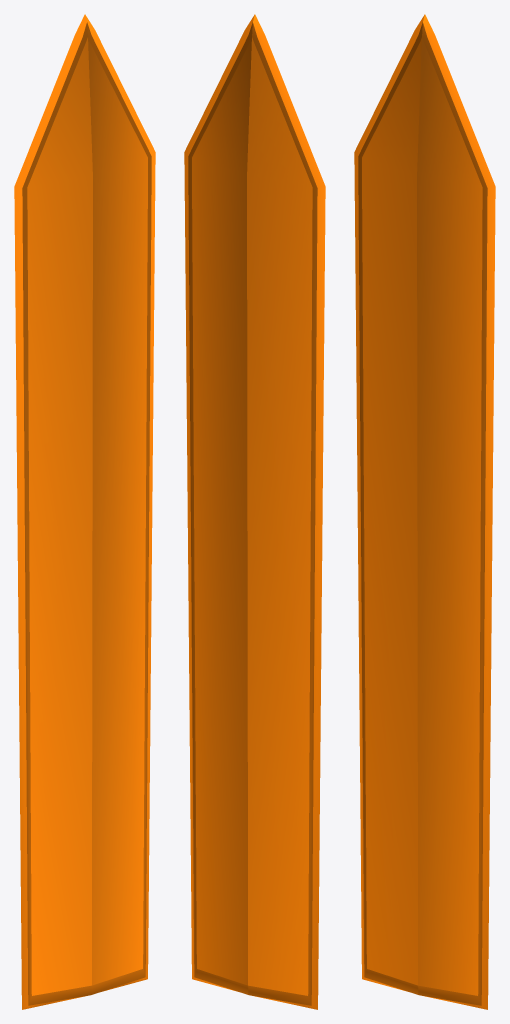
The model's file is bronze_blade (15).glb.
3 renders of one model, left to right at view 1: azimuth 30°, elevation 25°; view 2: azimuth 150°, elevation 25°; view 3: azimuth 330°, elevation 25°, orthographic.
Visible parts, largest first — view 1: bronze_blade_steel.028; view 2: bronze_blade_steel.028; view 3: bronze_blade_steel.028.
Boxes of the visible parts, x1,y1,x2,y2 form: bronze_blade_steel.028: (14, 14, 155, 1009); bronze_blade_steel.028: (184, 14, 325, 1009); bronze_blade_steel.028: (354, 14, 495, 1009).
Bounding box in the file's own units: 1.71 × 11.4 × 0.3369.
Materials: 1 (1 with a texture image).
